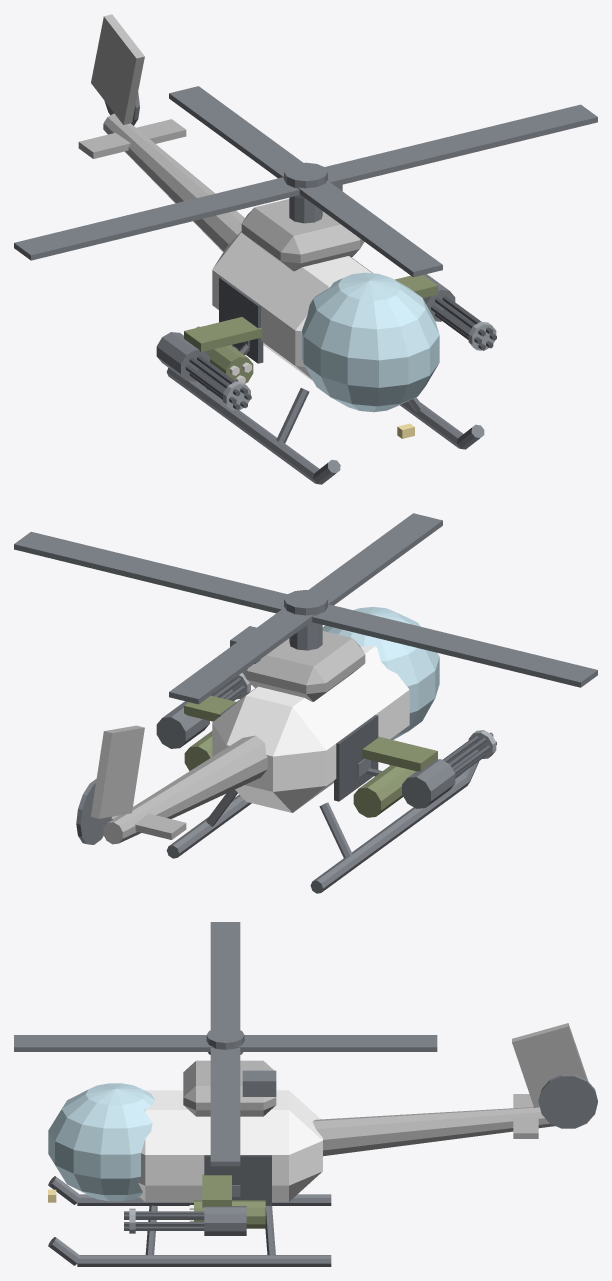
The model's file is heli.glb.
3 renders of one model, top to bottom at view 1: azimuth 30°, elevation 25°; view 2: azimuth 150°, elevation 25°; view 3: azimuth 270°, elevation 25°, orthographic. The views are drawn at different scales.
Parts seen in each view (by area): view 1: main, rotor; view 2: main, rotor; view 3: main, rotor.
Part boxes in pixels (x1=…): main: x1=78, y1=14, x2=496, y2=484; rotor: x1=14, y1=86, x2=597, y2=277; main: x1=76, y1=606, x2=496, y2=893; rotor: x1=14, y1=513, x2=597, y2=704; main: x1=48, y1=1023, x2=597, y2=1266; rotor: x1=14, y1=922, x2=437, y2=1166.
Size of the model in its own units: 1.34 by 0.5517 by 1.38.
